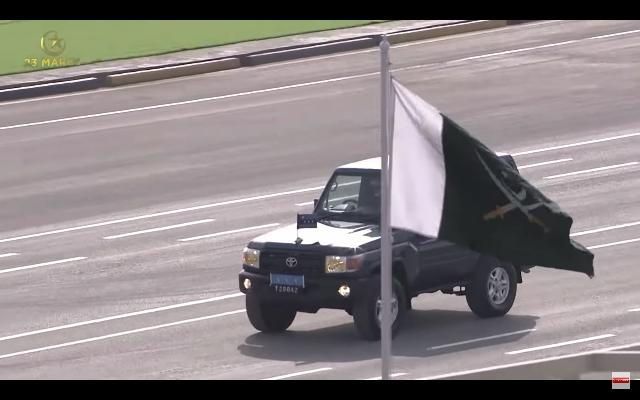plate: (272, 283, 302, 291)
